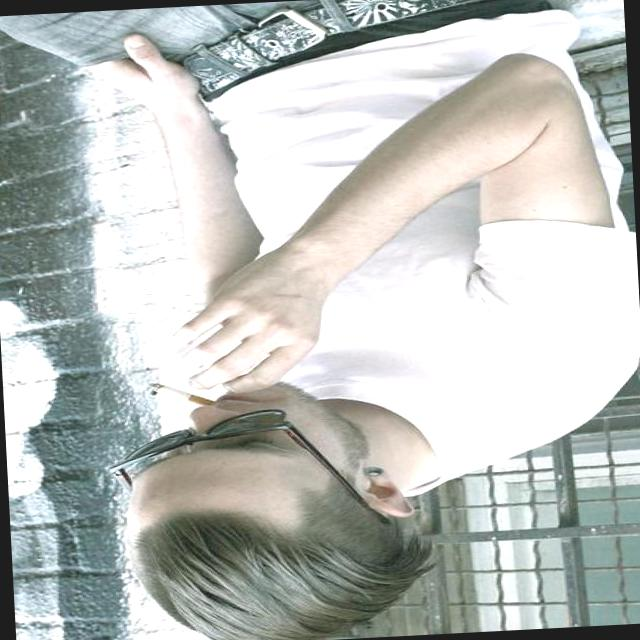smoke: (137, 370, 222, 416)
